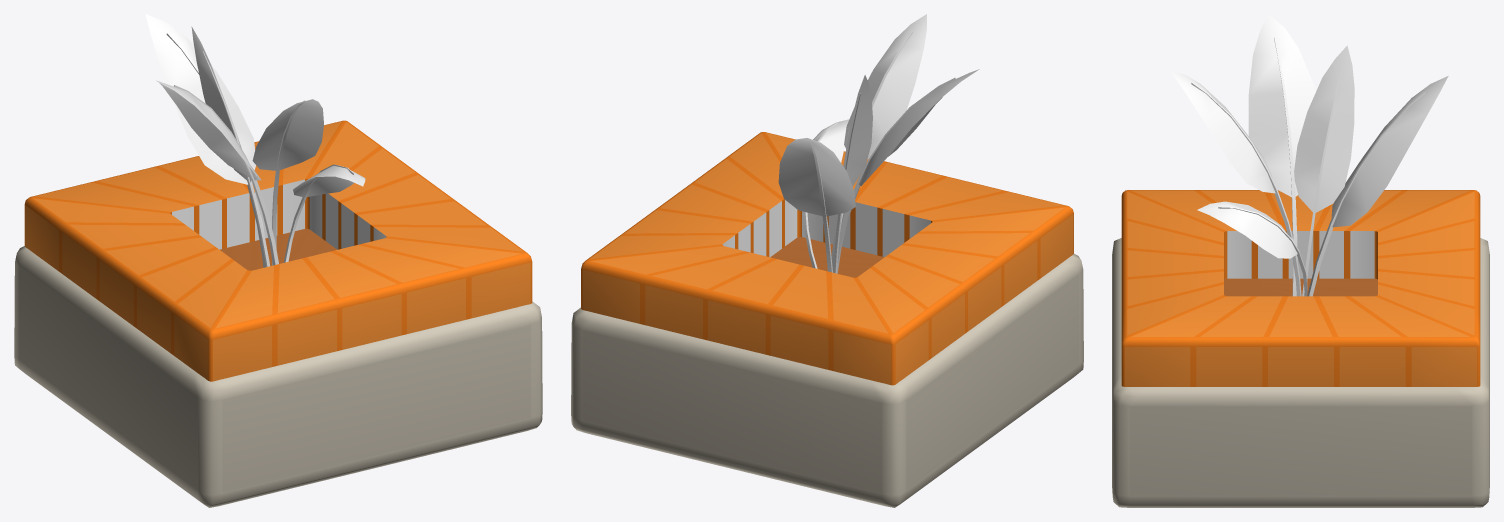
The model's file is MannequinStandCouch1.fbx.
3 renders of one model, left to right at view 1: azimuth 30°, elevation 25°; view 2: azimuth 150°, elevation 25°; view 3: azimuth 270°, elevation 25°, orthographic. The views are drawn at different scales.
Parts seen in each view (by area): view 1: Cube.001; view 2: Cube.001; view 3: Cube.001.
Part boxes in pixels (left/top/right/bottom): Cube.001: left=14, top=14, right=542, bottom=507; Cube.001: left=571, top=14, right=1083, bottom=507; Cube.001: left=1112, top=14, right=1489, bottom=507.
Bounding box in the file's own units: 138 × 144 × 138.
